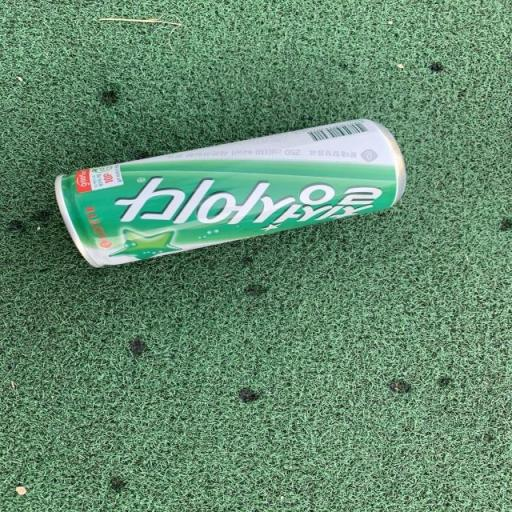metal: (31, 114, 438, 275)
